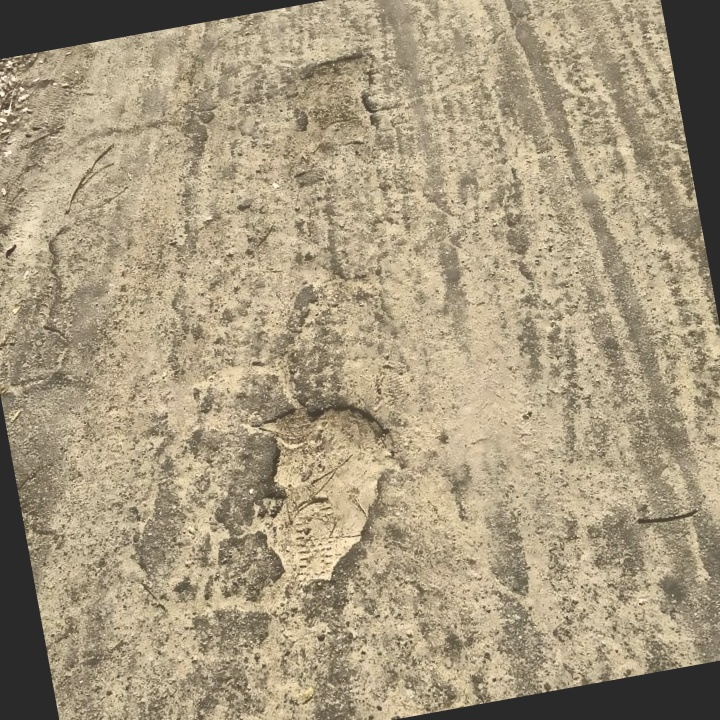pothole: (229, 382, 419, 597), (278, 46, 390, 159)
